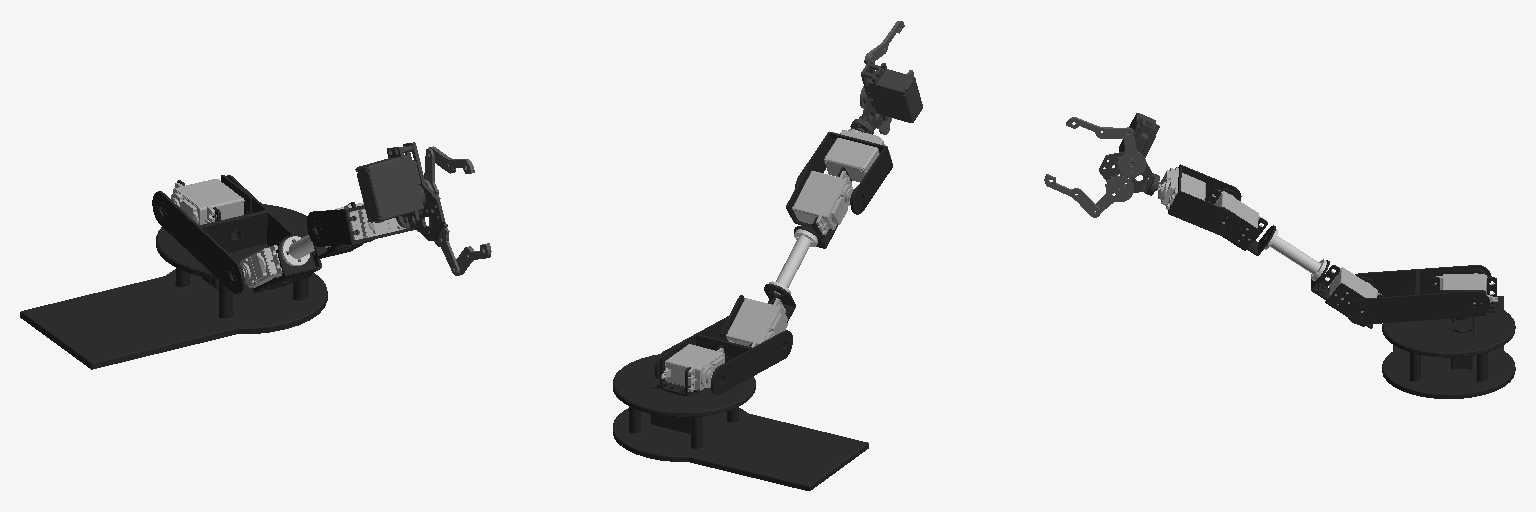
The robot description file, URDF, robot "six_dof_vthree":
<?xml version="1.0" encoding="utf-8" ?>
<!-- This URDF was automatically created by SolidWorks to URDF Exporter! Originally created by [author] ([email redacted]) 
     Commit Version: 1.6.0-1-g15f4949  Build Version: 1.6.7594.29634
     For more information, please see http://wiki.ros.org/sw_urdf_exporter -->
<robot name="six_dof_vthree">
    <link name="base_link">
        <inertial>
            <origin xyz="-0.24694 0.18581 -0.016056" rpy="0 0 0" />
            <mass value="0.19977" />
            <inertia ixx="0.00021667" ixy="-6.915E-05" ixz="-1.4303E-06" iyy="0.00066333" iyz="-1.3232E-06" izz="0.00056953" />
        </inertial>
        <visual>
            <origin xyz="0 0 0" rpy="0 0 0" />
            <geometry>
                <mesh filename="package://tesr_ros_six_servo_robot_pkg/meshes/base_link.STL" scale="10 10 10" />
            </geometry>
            <material name="">
                <color rgba="0.2 0.2 0.2 1" />
            </material>
        </visual>
        <collision>
            <origin xyz="0 0 0" rpy="0 0 0" />
            <geometry>
                <mesh filename="package://tesr_ros_six_servo_robot_pkg/meshes/base_link.STL" scale="10 10 10"/>
            </geometry>
        </collision>
    </link>
    <link name="link_1">
        <inertial>
            <origin xyz="-0.0018294 -0.0067148 -0.10104" rpy="0 0 0" />
            <mass value="0.016244" />
            <inertia ixx="4.3344E-06" ixy="-6.8318E-07" ixz="3.7263E-07" iyy="3.4552E-06" iyz="-2.0145E-07" izz="6.1023E-06" />
        </inertial>
        <visual>
            <origin xyz="0 0 0" rpy="0 0 0" />
            <geometry>
                <mesh filename="package://tesr_ros_six_servo_robot_pkg/meshes/link_1.STL" scale="10 10 10"/>
            </geometry>
            <material name="">
                <color rgba="0.2 0.2 0.2 1" />
            </material>
        </visual>
        <collision>
            <origin xyz="0 0 0" rpy="0 0 0" />
            <geometry>
                <mesh filename="package://tesr_ros_six_servo_robot_pkg/meshes/link_1.STL" scale="10 10 10"/>
            </geometry>
        </collision>
    </link>
    <joint name="joint_1" type="revolute">
        <origin xyz="-0.1 0.12 0.5175" rpy="3.1416 0 -0.52" />
        <!--rpy="3.1416 0 1.0695" /-->
        <parent link="base_link" />
        <child link="link_1" />
        <axis xyz="0 0 -1" />
        <limit lower="0" upper="3.14" effort="1000" velocity="1.0" />
    </joint>
    <link name="link_2">
        <inertial>
            <origin xyz="-0.0030577 -0.082896 4.0228E-08" rpy="0 0 0" />
            <mass value="0.03093" />
            <inertia ixx="1.6875E-06" ixy="3.9477E-08" ixz="8.0268E-13" iyy="5.2032E-06" iyz="-5.5581E-13" izz="4.903E-06" />
        </inertial>
        <visual>
            <origin xyz="0 0 0" rpy="0 0 0" />
            <geometry>
                <mesh filename="package://tesr_ros_six_servo_robot_pkg/meshes/link_2.STL" scale="10 10 10"/>
            </geometry>
            <material name="">
                <color rgba="0.7 0.7 0.7 1" />
            </material>
        </visual>
        <collision>
            <origin xyz="0 0 0" rpy="0 0 0" />
            <geometry>
                <mesh filename="package://tesr_ros_six_servo_robot_pkg/meshes/link_2.STL" scale="10 10 10"/>
            </geometry>
        </collision>
    </link>
    <joint name="joint_2" type="fixed">
        <origin xyz="-0.16812 0.071743 -0.17792" rpy="0 0 1.0713" />
        <parent link="link_1" />
        <child link="link_2" />
        <axis xyz="0 0 0" />
    </joint>
    <link name="link_3">
        <inertial>
            <origin xyz="-0.04182 0.51 -4.3715E-15" rpy="0 0 0" />
            <mass value="0.049995" />
            <inertia ixx="2.134E-05" ixy="-3.8211E-21" ixz="-1.5525E-18" iyy="3.0287E-05" iyz="-3.1779E-15" izz="4.6603E-05" />
        </inertial>
        <visual>
            <origin xyz="0 0 0" rpy="0 0 0" />
            <geometry>
                <mesh filename="package://tesr_ros_six_servo_robot_pkg/meshes/link_3.STL" scale="10 10 10"/>
            </geometry>
            <material name="">
                <color rgba="0.2 0.2 0.2 1" />
            </material>
        </visual>
        <collision>
            <origin xyz="0 0 0" rpy="0 0 0" />
            <geometry>
                <mesh filename="package://tesr_ros_six_servo_robot_pkg/meshes/link_3.STL" scale="10 10 10"/>
            </geometry>
        </collision>
    </link>
    <joint name="joint_3" type="revolute">
        <origin xyz="-0.1 0 0" rpy="3.05432 0 1.5708" />
        <parent link="link_2" />
        <child link="link_3" />
        <axis xyz="1 0 0" />
        <limit lower="0" upper="2.3562" effort="1000" velocity="1.0"/>
    </joint>
    <link name="link_4">
        <inertial>
            <origin xyz="0.097832 -0.082336 4.3055E-08" rpy="0 0 0" />
            <mass value="0.030816" />
            <inertia ixx="1.6871E-06" ixy="3.9477E-08" ixz="9.0364E-13" iyy="5.2026E-06" iyz="-6.1004E-13" izz="4.9025E-06" />
        </inertial>
        <visual>
            <origin xyz="0 0 0" rpy="0 0 0" />
            <geometry>
                <mesh filename="package://tesr_ros_six_servo_robot_pkg/meshes/link_4.STL" scale="10 10 10"/>
            </geometry>
            <material name="">
                <color rgba="0.7 0.7 0.7 1" />
            </material>
        </visual>
        <collision>
            <origin xyz="0 0 0" rpy="0 0 0" />
            <geometry>
                <mesh filename="package://tesr_ros_six_servo_robot_pkg/meshes/link_4.STL" scale="10 10 10"/>
            </geometry>
        </collision>
    </link>
    <joint name="joint_4" type="revolute">
        <origin xyz="0 1.02 0" rpy="3.1416 -0.6981 1.5708" />
        <parent link="link_3" />
        <child link="link_4" />
        <axis xyz="0 -1 0" />
        <limit lower="0" upper="3.14" effort="1000" velocity="1.0"/>
    </joint>
    <link name="link_5">
        <inertial>
            <origin xyz="0.17447 0.057451 0.12304" rpy="0 0 0" />
            <mass value="0.021187" />
            <inertia ixx="5.9142E-06" ixy="4.236E-07" ixz="-5.2827E-11" iyy="7.2085E-06" iyz="3.3227E-07" izz="3.809E-06" />
        </inertial>
        <visual>
            <origin xyz="0 0 0" rpy="0 0 0" />
            <geometry>
                <mesh filename="package://tesr_ros_six_servo_robot_pkg/meshes/link_5.STL" scale="10 10 10"/>
            </geometry>
            <material name="">
                <color rgba="0.2 0.2 0.2 1" />
            </material>
        </visual>
        <collision>
            <origin xyz="0 0 0" rpy="0 0 0" />
            <geometry>
                <mesh filename="package://tesr_ros_six_servo_robot_pkg/meshes/link_5.STL" scale="10 10 10"/>
            </geometry>
        </collision>
    </link>
    <joint name="joint_5" type="fixed">
        <origin xyz="0.31 -0.32 0.13292" rpy="-1.5708 0 1.5708" />
        <parent link="link_4" />
        <child link="link_5" />
        <axis xyz="0 0 0" />
    </joint>
    <link name="link_6">
        <inertial>
            <origin xyz="-2.7756E-16 -0.30497 -6.3079E-15" rpy="0 0 0" />
            <mass value="0.0078846" />
            <inertia ixx="2.8919E-06" ixy="-1.6756E-21" ixz="-1.3442E-24" iyy="2.2554E-07" iyz="1.7249E-22" izz="2.8919E-06" />
        </inertial>
        <visual>
            <origin xyz="0 0 0" rpy="0 0 0" />
            <geometry>
                <mesh filename="package://tesr_ros_six_servo_robot_pkg/meshes/link_6.STL" scale="10 10 10"/>
            </geometry>
            <material name="">
                <color rgba="0.8 0.8 0.8 1" />
            </material>
        </visual>
        <collision>
            <origin xyz="0 0 0" rpy="0 0 0" />
            <geometry>
                <mesh filename="package://tesr_ros_six_servo_robot_pkg/meshes/link_6.STL" scale="10 10 10"/>
            </geometry>
        </collision>
    </link>
    <joint name="joint_6" type="fixed">
        <origin xyz="0.25217 0.139 -0.13799" rpy="1.5708 0 -1.5708" />
        <parent link="link_5" />
        <child link="link_6" />
        <axis xyz="0 0 0" />
    </joint>
    <link name="link_7">
        <inertial>
            <origin xyz="0.28032 0.047299 -0.077781" rpy="0 0 0" />
            <mass value="0.021187" />
            <inertia ixx="3.809E-06" ixy="5.2827E-11" ixz="-3.2899E-07" iyy="5.9142E-06" iyz="-4.236E-07" izz="7.2085E-06" />
        </inertial>
        <visual>
            <origin xyz="0 0 0" rpy="0 0 0" />
            <geometry>
                <mesh filename="package://tesr_ros_six_servo_robot_pkg/meshes/link_7.STL" scale="10 10 10"/>
            </geometry>
            <material name="">
                <color rgba="0.2 0.2 0.2 1" />
            </material>
        </visual>
        <collision>
            <origin xyz="0 0 0" rpy="0 0 0" />
            <geometry>
                <mesh filename="package://tesr_ros_six_servo_robot_pkg/meshes/link_7.STL" scale="10 10 10"/>
            </geometry>
        </collision>
    </link>
    <joint name="joint_7" type="fixed">
        <origin xyz="0.16 -0.59015 0.125" rpy="-1.5708 0 -1.5708" />
        <parent link="link_6" />
        <child link="link_7" />
        <axis xyz="0 0 0" />
    </joint>
    <link name="link_8">
        <inertial>
            <origin xyz="-0.00216828113527717 -0.0823361941068958 4.30062174761048E-08" rpy="0 0 0" />
            <mass value="0.0308161398251486" />
            <inertia ixx="1.68714358570622E-06" ixy="3.94774683741194E-08" ixz="9.02243960309693E-13" iyy="5.2025774371148E-06" iyz="-6.09807048470312E-13" izz="4.9025002529183E-06" />
        </inertial>
        <visual>
            <origin xyz="0 0 0" rpy="0 0 0" />
            <geometry>
                <mesh filename="package://tesr_ros_six_servo_robot_pkg/meshes/link_8.STL" scale="10 10 10"/>
            </geometry>
            <material name="">
                <color rgba="0.7 0.7 0.7 1" />
            </material>
        </visual>
        <collision>
            <origin xyz="0 0 0" rpy="0 0 0" />
            <geometry>
                <mesh filename="package://tesr_ros_six_servo_robot_pkg/meshes/link_8.STL" scale="10 10 10"/>
            </geometry>
        </collision>
    </link>
    <joint name="joint_8" type="fixed">
        <origin xyz="0.36754 0.19283 -0.15292" rpy="3.1416 0 -3.1416" />
        <parent link="link_7" />
        <child link="link_8" />
        <axis xyz="0 0 0" />
    </joint>
    <link name="link_9">
        <inertial>
            <origin xyz="-0.0351339256501729 -0.220824494550131 0.0311970106198312" rpy="0 0 0" />
            <mass value="0.0208710938956787" />
            <inertia ixx="2.0338815288266E-05" ixy="-9.52656162447708E-07" ixz="-1.11638519066613E-10" iyy="1.44907793466079E-05" iyz="-6.98722629147494E-10" izz="8.3722165314364E-06" />
        </inertial>
        <visual>
            <origin xyz="0 0 0" rpy="0 0 0" />
            <geometry>
                <mesh filename="package://tesr_ros_six_servo_robot_pkg/meshes/link_9.STL" scale="10 10 10"/>
            </geometry>
            <material name="">
                <color rgba="0.2 0.2 0.2 1" />
            </material>
        </visual>
        <collision>
            <origin xyz="0 0 0" rpy="0 0 0" />
            <geometry>
                <mesh filename="package://tesr_ros_six_servo_robot_pkg/meshes/link_9.STL" scale="10 10 10"/>
            </geometry>
        </collision>
    </link>
    <joint name="joint_9" type="revolute">
        <origin xyz="-0.1 0 0" rpy="1.5708 -1.13446 0" />
        <parent link="link_8" />
        <child link="link_9" />
        <axis xyz="0 0 -1" />
        <limit lower="0.7854" upper="3.927" effort="1000" velocity="1.0"/>
    </joint>
    <link name="link_10">
        <inertial>
            <origin xyz="-0.002168280519851 -0.0823361951667059 4.41184394572858E-08" rpy="0 0 0" />
            <mass value="0.030816139430284" />
            <inertia ixx="1.687143637864E-06" ixy="3.94774699970568E-08" ixz="9.23313678770479E-13" iyy="5.2025773326752E-06" iyz="-6.08644339845992E-13" izz="4.9025001142284E-06" />
        </inertial>
        <visual>
            <origin xyz="0 0 0" rpy="0 0 0" />
            <geometry>
                <mesh filename="package://tesr_ros_six_servo_robot_pkg/meshes/link_10.STL" scale="10 10 10"/>
            </geometry>
            <material name="">
                <color rgba="0.7 0.7 0.7 1" />
            </material>
        </visual>
        <collision>
            <origin xyz="0 0 0" rpy="0 0 0" />
            <geometry>
                <mesh filename="package://tesr_ros_six_servo_robot_pkg/meshes/link_10.STL" scale="10 10 10"/>
            </geometry>
        </collision>
    </link>
    <joint name="joint_10" type="fixed">
        <origin xyz="-0.080654 -0.50358 0.055" rpy="3.31612 1.5708 0" />
        <parent link="link_9" />
        <child link="link_10" />
        <axis xyz="0 0 0" />
    </joint>
    <link name="link_11">
        <inertial>
            <origin xyz="-0.179796830430524 0.176119337980501 -0.276487816012455" rpy="0 0 0" />
            <mass value="0.0394323641558575" />
            <inertia ixx="2.3493041489984E-06" ixy="2.79264066382846E-07" ixz="8.77932216619499E-09" iyy="7.25682088953817E-06" iyz="-6.63070840397994E-10" izz="6.54663315578873E-06" />
        </inertial>
        <visual>
            <origin xyz="0 0 0" rpy="0 0 0" />
            <geometry>
                <mesh filename="package://tesr_ros_six_servo_robot_pkg/meshes/link_11.STL" scale="10 10 10"/>
            </geometry>
            <material name="">
                <color rgba="0.3 0.3 0.3 1" />
            </material>
        </visual>
        <collision>
            <origin xyz="0 0 0" rpy="0 0 0" />
            <geometry>
                <mesh filename="package://tesr_ros_six_servo_robot_pkg/meshes/link_11.STL" scale="10 10 10"/>
            </geometry>
        </collision>
    </link>
    <joint name="joint_11" type="revolute">
        <origin xyz="-0.1 0.15896 0" rpy="-1.5708 1.5708 -3.1416" />
        <parent link="link_10" />
        <child link="link_11" />
        <axis xyz="0 0 -1" />
        <limit lower="0" upper="3.14" effort="1000" velocity="1.0" />
    </joint>
    <link name="link_12_1">
        <inertial>
            <origin xyz="0.00111818837647881 -0.0276320253830744 0.0446257533240041" rpy="0 0 0" />
            <mass value="0.00341955118879606" />
            <inertia ixx="2.65564690155204E-07" ixy="-4.91339632043252E-09" ixz="9.40271711925512E-23" iyy="9.83115433738288E-08" iyz="-1.92532749920253E-22" izz="3.58855211908907E-07" />
        </inertial>
        <visual>
            <origin xyz="0 0 0" rpy="0 0 0" />
            <geometry>
                <mesh filename="package://tesr_ros_six_servo_robot_pkg/meshes/link_12_1.STL" scale="10 10 10"/>
            </geometry>
            <material name="">
                <color rgba="0.4 0.4 0.4 1" />
            </material>
        </visual>
        <collision>
            <origin xyz="0 0 0" rpy="0 0 0" />
            <geometry>
                <mesh filename="package://tesr_ros_six_servo_robot_pkg/meshes/link_12_1.STL" scale="10 10 10"/>
            </geometry>
        </collision>
    </link>
    <joint name="joitn_12_1" type="revolute">
        <origin xyz="-0.13061 0.0053714 -0.30854" rpy="1.5708 1.0128 -0.041103" />
        <parent link="link_11" />
        <child link="link_12_1" />
        <axis xyz="0 0 1" />
        <limit lower="-3.14" upper="3.14" effort="1000" velocity="1.0"/>
    </joint>
    <link name="link_13_1">
        <inertial>
            <origin xyz="-0.0629539510608565 0.227381038998286 0.0841717476312126" rpy="0 0 0" />
            <mass value="0.00148390327012937" />
            <inertia ixx="4.34064262982202E-07" ixy="7.40371580775276E-08" ixz="2.016252743098E-24" iyy="2.90889864815549E-08" iyz="-8.94986804562501E-23" izz="4.60927394558563E-07" />
        </inertial>
        <visual>
            <origin xyz="0 0 0" rpy="0 0 0" />
            <geometry>
                <mesh filename="package://tesr_ros_six_servo_robot_pkg/meshes/link_13_1.STL" scale="10 10 10"/>
            </geometry>
            <material name="">
                <color rgba="0.4 0.4 0.4 1" />
            </material>
        </visual>
        <collision>
            <origin xyz="0 0 0" rpy="0 0 0" />
            <geometry>
                <mesh filename="package://tesr_ros_six_servo_robot_pkg/meshes/link_13_1.STL" scale="10 10 10"/>
            </geometry>
        </collision>
    </link>
    <joint name="joint_13_1" type="revolute">
        <origin xyz="-0.0019564 -0.31049 3.2825E-04" rpy="0 0 -2.099" />
        <parent link="link_12_1" />
        <child link="link_13_1" />
        <axis xyz="0 0 1" />
        <limit lower="-3.14" upper="3.14" effort="1000" velocity="1.0"/>
    </joint>
    <link name="link_12_2">
        <inertial>
            <origin xyz="0.0026689410687139 -0.0650128014864475 -0.0811666203769354" rpy="0 0 0" />
            <mass value="0.00145339261018611" />
            <inertia ixx="2.1583788124175E-07" ixy="-4.87149989419953E-09" ixz="-4.13913423703292E-23" iyy="4.7207621717766E-08" iyz="-1.40052017462884E-22" izz="2.62001176329039E-07" />
        </inertial>
        <visual>
            <origin xyz="0 0 0" rpy="0 0 0" />
            <geometry>
                <mesh filename="package://tesr_ros_six_servo_robot_pkg/meshes/link_12_2.STL" scale="10 10 10"/>
            </geometry>
            <material name="">
                <color rgba="0.4 0.4 0.4 1" />
            </material>
        </visual>
        <collision>
            <origin xyz="0 0 0" rpy="0 0 0" />
            <geometry>
                <mesh filename="package://tesr_ros_six_servo_robot_pkg/meshes/link_12_2.STL" scale="10 10 10"/>
            </geometry>
        </collision>
    </link>
    <joint name="joint_12_2" type="revolute">
        <origin xyz="0.1407 0.014175 -0.30854" rpy="1.5708 1.1996 3.1005" />
        <parent link="link_11" />
        <child link="link_12_2" />
        <axis xyz="0 0 1" />
        <limit lower="-3.14" upper="3.14" effort="1000" velocity="1.0"/>
    </joint>
    <link name="link_13_2">
        <inertial>
            <origin xyz="-0.062954 0.22738 -0.084837" rpy="0 0 0" />
            <mass value="0.0014839" />
            <inertia ixx="4.3406E-07" ixy="7.4037E-08" ixz="1.277E-22" iyy="2.9089E-08" iyz="-6.4044E-22" izz="4.6093E-07" />
        </inertial>
        <visual>
            <origin xyz="0 0 0" rpy="0 0 0" />
            <geometry>
                <mesh filename="package://tesr_ros_six_servo_robot_pkg/meshes/link_13_2.STL" scale="10 10 10"/>
            </geometry>
            <material name="">
                <color rgba="0.4 0.4 0.4 1" />
            </material>
        </visual>
        <collision>
            <origin xyz="0 0 0" rpy="0 0 0" />
            <geometry>
                <mesh filename="package://tesr_ros_six_servo_robot_pkg/meshes/link_13_2.STL" scale="10 10 10"/>
            </geometry>
        </collision>
    </link>
    <joint name="joint_13_2" type="revolute">
        <origin xyz="-0.0019564 -0.31049 -0.022108" rpy="0 0 -1.939" />
        <parent link="link_12_2" />
        <child link="link_13_2" />
        <axis xyz="0 0 1" />
        <limit lower="-3.14" upper="3.14" effort="1000" velocity="1.0" />
    </joint>
    <transmission name="trans_joint_1">
        <type>transmission_interface/SimpleTransmission</type>
        <joint name="joint_1">
            <hardwareInterface>hardware_interface/EffortJointInterface</hardwareInterface>
        </joint>
        <actuator name="joint_1_motor">
            <hardwareInterface>hardware_interface/EffortJointInterface</hardwareInterface>
            <mechanicalReduction>1</mechanicalReduction>
        </actuator>
    </transmission>
    <transmission name="trans_joint_3">
        <type>transmission_interface/SimpleTransmission</type>
        <joint name="joint_3">
            <hardwareInterface>hardware_interface/EffortJointInterface</hardwareInterface>
        </joint>
        <actuator name="joint_3_motor">
            <hardwareInterface>hardware_interface/EffortJointInterface</hardwareInterface>
            <mechanicalReduction>1</mechanicalReduction>
        </actuator>
    </transmission>
    <transmission name="trans_joint_4">
        <type>transmission_interface/SimpleTransmission</type>
        <joint name="joint_4">
            <hardwareInterface>hardware_interface/EffortJointInterface</hardwareInterface>
        </joint>
        <actuator name="joint_4_motor">
            <hardwareInterface>hardware_interface/EffortJointInterface</hardwareInterface>
            <mechanicalReduction>1</mechanicalReduction>
        </actuator>
    </transmission>
    <transmission name="trans_joint_9">
        <type>transmission_interface/SimpleTransmission</type>
        <joint name="joint_9">
            <hardwareInterface>hardware_interface/EffortJointInterface</hardwareInterface>
        </joint>
        <actuator name="joint_9_motor">
            <hardwareInterface>hardware_interface/EffortJointInterface</hardwareInterface>
            <mechanicalReduction>1</mechanicalReduction>
        </actuator>
    </transmission>
    <transmission name="trans_joint_11">
        <type>transmission_interface/SimpleTransmission</type>
        <joint name="joint_11">
            <hardwareInterface>hardware_interface/EffortJointInterface</hardwareInterface>
        </joint>
        <actuator name="joint_11_motor">
            <hardwareInterface>hardware_interface/EffortJointInterface</hardwareInterface>
            <mechanicalReduction>1</mechanicalReduction>
        </actuator>
    </transmission>
    <transmission name="trans_joitn_12_1">
        <type>transmission_interface/SimpleTransmission</type>
        <joint name="joitn_12_1">
            <hardwareInterface>hardware_interface/EffortJointInterface</hardwareInterface>
        </joint>
        <actuator name="joitn_12_1_motor">
            <hardwareInterface>hardware_interface/EffortJointInterface</hardwareInterface>
            <mechanicalReduction>1</mechanicalReduction>
        </actuator>
    </transmission>
    <transmission name="trans_joint_13_1">
        <type>transmission_interface/SimpleTransmission</type>
        <joint name="joint_13_1">
            <hardwareInterface>hardware_interface/EffortJointInterface</hardwareInterface>
        </joint>
        <actuator name="joint_13_1_motor">
            <hardwareInterface>hardware_interface/EffortJointInterface</hardwareInterface>
            <mechanicalReduction>1</mechanicalReduction>
        </actuator>
    </transmission>
    <transmission name="trans_joint_12_2">
        <type>transmission_interface/SimpleTransmission</type>
        <joint name="joint_12_2">
            <hardwareInterface>hardware_interface/EffortJointInterface</hardwareInterface>
        </joint>
        <actuator name="joint_12_2_motor">
            <hardwareInterface>hardware_interface/EffortJointInterface</hardwareInterface>
            <mechanicalReduction>1</mechanicalReduction>
        </actuator>
    </transmission>
    <transmission name="trans_joint_13_2">
        <type>transmission_interface/SimpleTransmission</type>
        <joint name="joint_13_2">
            <hardwareInterface>hardware_interface/EffortJointInterface</hardwareInterface>
        </joint>
        <actuator name="joint_13_2_motor">
            <hardwareInterface>hardware_interface/EffortJointInterface</hardwareInterface>
            <mechanicalReduction>1</mechanicalReduction>
        </actuator>
    </transmission>
    <gazebo>
        <plugin name="gazebo_ros_control">
            <robotNamespace>/</robotNamespace>
        </plugin>
    </gazebo>
</robot>

--- What the picture shows (computed from the rendered views, not written in the file) ---
Views: 3 orthographic renders of the robot side by side, from view 1: azimuth 30°, elevation 25°; view 2: azimuth 150°, elevation 25°; view 3: azimuth 270°, elevation 25°.
Robot: six_dof_vthree — 16 links, 15 joints (9 revolute, 6 fixed); root link base_link; default pose: joints at zero except 1 at the middle of their limits (joint_9 = 2.36).
Visible links, largest first — view 1: base_link, link_3, link_11, link_2, link_9, link_4, link_5, link_10, link_6, link_13_1, link_13_2; view 2: base_link, link_3, link_11, link_8, link_4, link_9, link_2, link_10, link_6, link_7, link_5, link_1; view 3: base_link, link_3, link_9, link_11, link_5, link_7, link_10, link_6, link_2, link_12_2, link_12_1, link_4 (+3 smaller).
Link boxes in pixels (bbox=[...]): base_link: bbox=[20, 204, 327, 369]; link_3: bbox=[152, 175, 311, 293]; link_11: bbox=[355, 142, 444, 240]; link_2: bbox=[171, 179, 244, 224]; link_9: bbox=[307, 205, 415, 246]; link_4: bbox=[240, 245, 286, 287]; link_5: bbox=[253, 235, 321, 292]; link_10: bbox=[348, 209, 405, 239]; link_6: bbox=[281, 235, 314, 265]; link_13_1: bbox=[429, 146, 474, 173]; link_13_2: bbox=[456, 243, 491, 275]; base_link: bbox=[613, 354, 868, 490]; link_3: bbox=[655, 316, 792, 394]; link_11: bbox=[850, 61, 922, 134]; link_8: bbox=[792, 171, 853, 234]; link_4: bbox=[726, 298, 787, 347]; link_9: bbox=[795, 132, 892, 214]; link_2: bbox=[661, 344, 724, 391]; link_10: bbox=[824, 129, 891, 181]; link_6: bbox=[769, 229, 817, 294]; link_7: bbox=[786, 167, 851, 248]; link_5: bbox=[720, 284, 795, 346]; link_1: bbox=[660, 340, 723, 395]; base_link: bbox=[1382, 296, 1515, 398]; link_3: bbox=[1347, 265, 1491, 324]; link_9: bbox=[1168, 164, 1241, 236]; link_11: bbox=[1099, 113, 1159, 195]; link_5: bbox=[1311, 260, 1383, 328]; link_7: bbox=[1205, 188, 1275, 255]; link_10: bbox=[1157, 167, 1205, 209]; link_6: bbox=[1265, 229, 1326, 280]; link_2: bbox=[1435, 273, 1497, 303]; link_12_2: bbox=[1094, 174, 1133, 212]; link_12_1: bbox=[1117, 127, 1146, 178]; link_4: bbox=[1325, 266, 1381, 312].
Bounding box of the posed robot: 2.1 × 4.24 × 2.46 m (x, y, z).
Meshes: 16 distinct files referenced, 16 mesh visuals loaded (16 binary STL).
